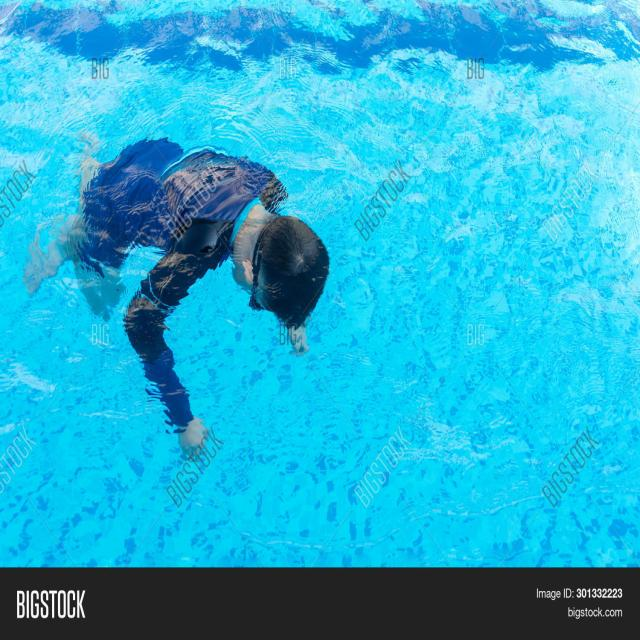Drowning: (31, 138, 332, 470)
